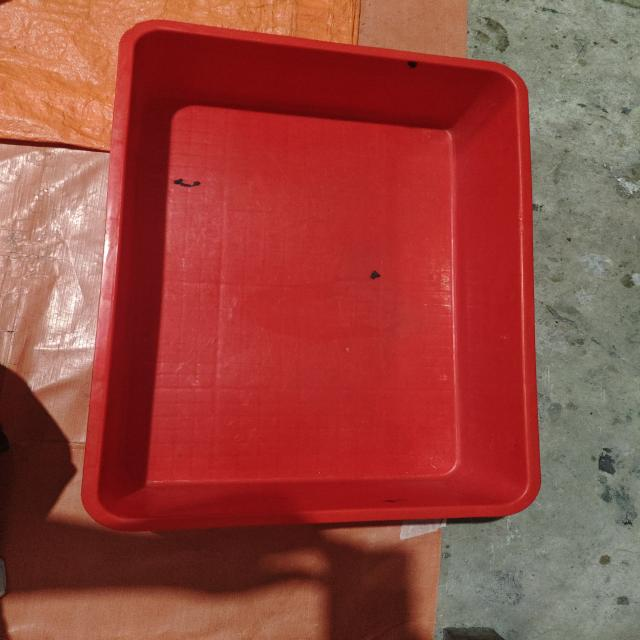red plastic box: (80, 19, 542, 532)
